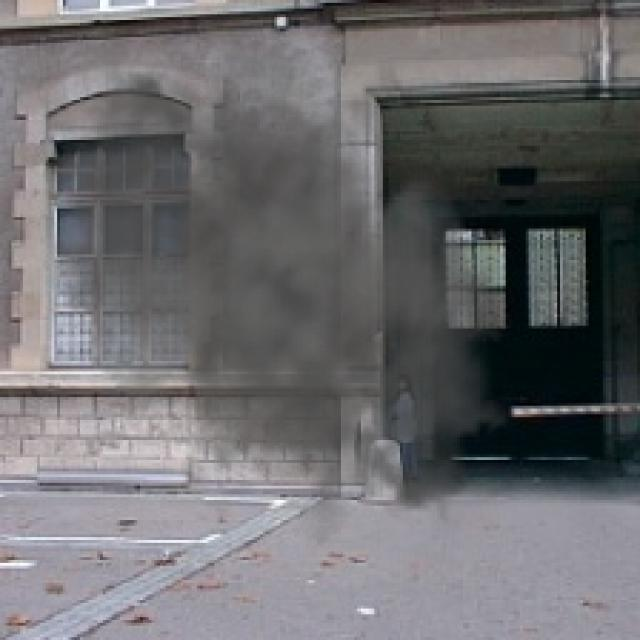Smoke: (14, 31, 543, 552)
